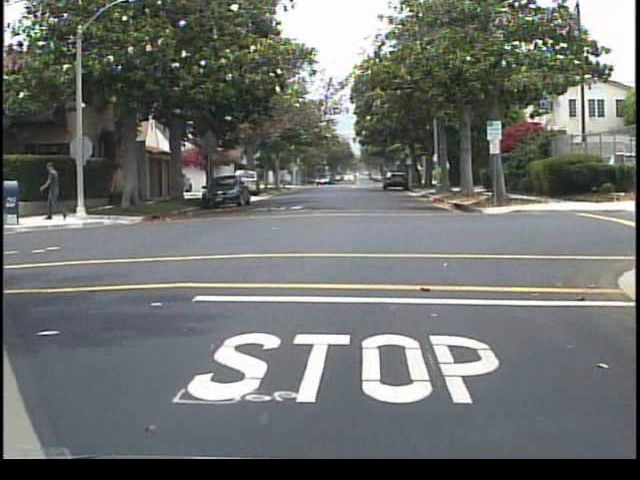person: (40, 159, 71, 226)
